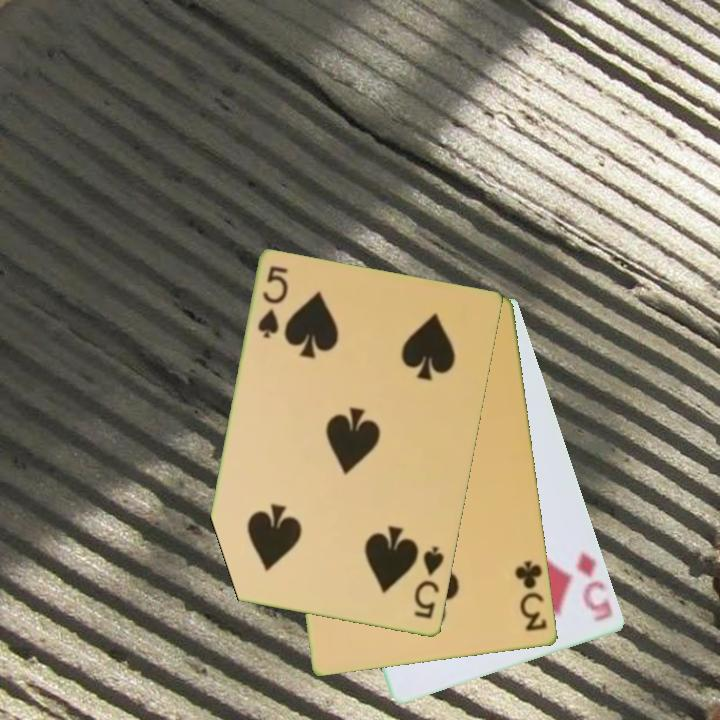3c: (511, 557, 551, 635)
5d: (572, 549, 616, 625)
5s: (254, 263, 291, 342), (411, 543, 447, 622)
